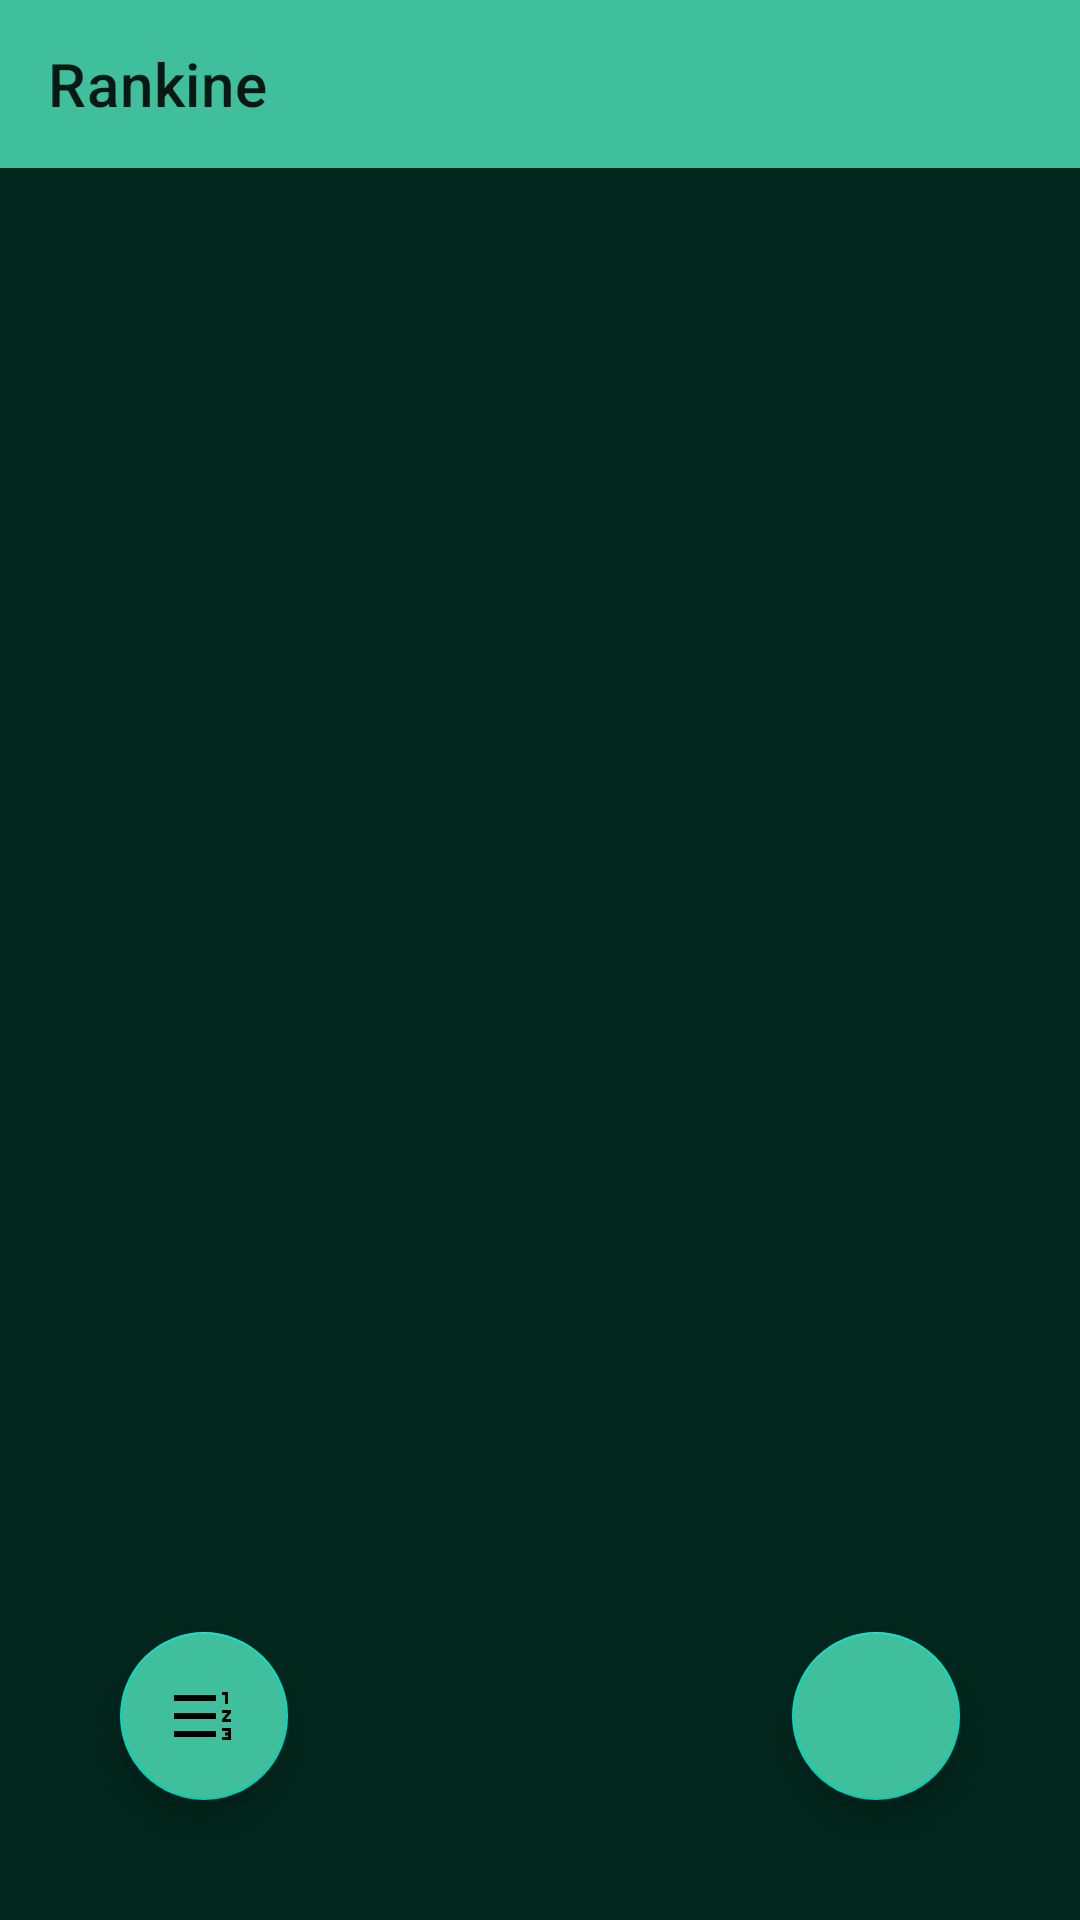

Named icons in this screenshot (1080x1920) and their bounding boxes, (x1, y1, x2, y2):
rank: (120, 1632, 288, 1800)
